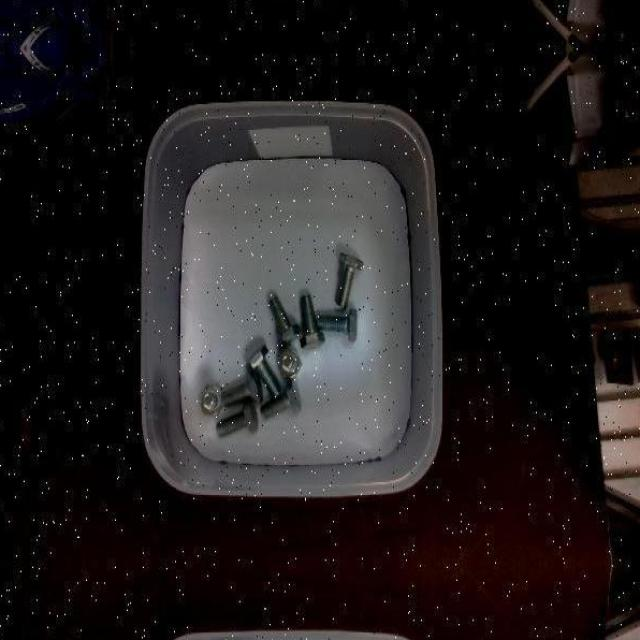screw: (267, 294, 301, 348), (246, 344, 281, 396), (260, 379, 302, 419), (217, 398, 259, 437), (221, 369, 263, 406), (316, 308, 358, 343), (336, 254, 363, 308), (300, 293, 326, 349), (199, 384, 223, 418), (277, 348, 302, 380)
